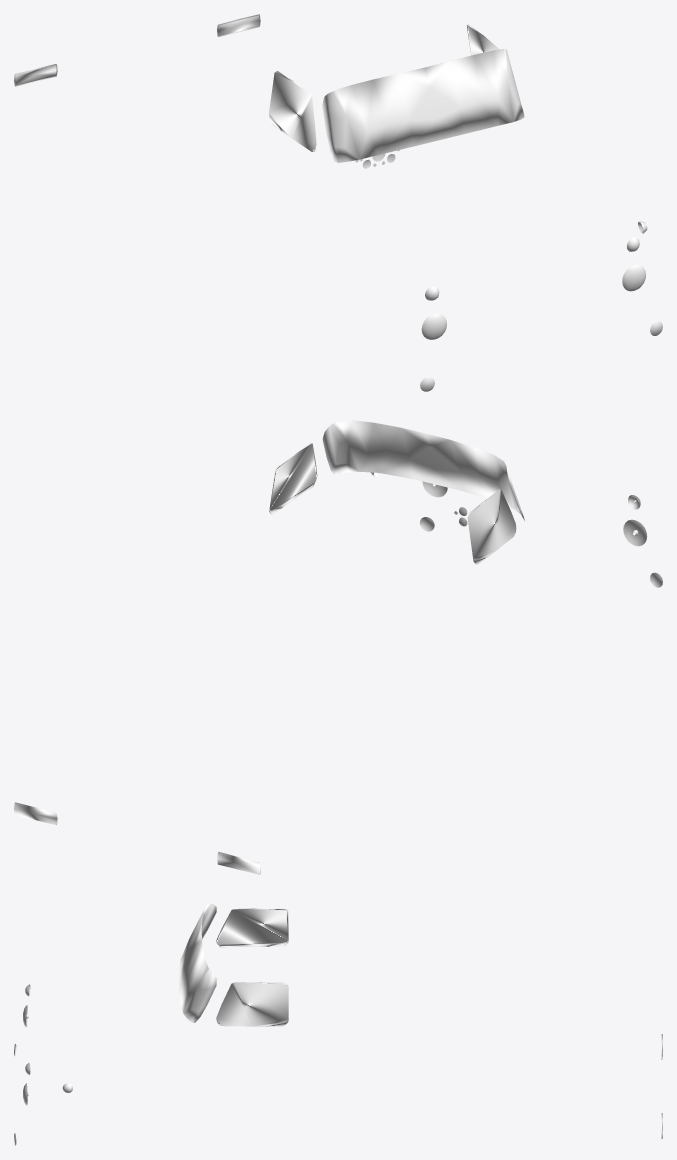
3 views of the same model, one above another, from view 1: azimuth 30°, elevation 25°; view 2: azimuth 150°, elevation 25°; view 3: azimuth 270°, elevation 25° (orthographic). The views are drawn at different scales.
Size of the model in its own units: 2.11 by 1.64 by 5.7.
1 material, 1 textured.
